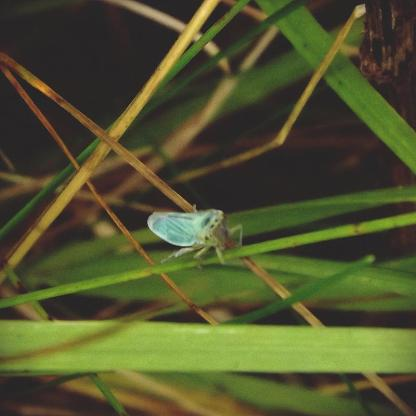Green-Leafhopper: (146, 208, 241, 263)
